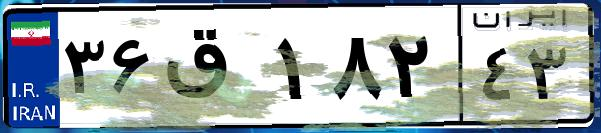1: (270, 28, 330, 110)
2: (385, 28, 445, 110)
3: (57, 26, 110, 100), (525, 38, 570, 115)
4: (475, 38, 525, 113)
6: (110, 28, 158, 98)
8: (330, 28, 385, 110)
ق: (158, 20, 270, 120)
